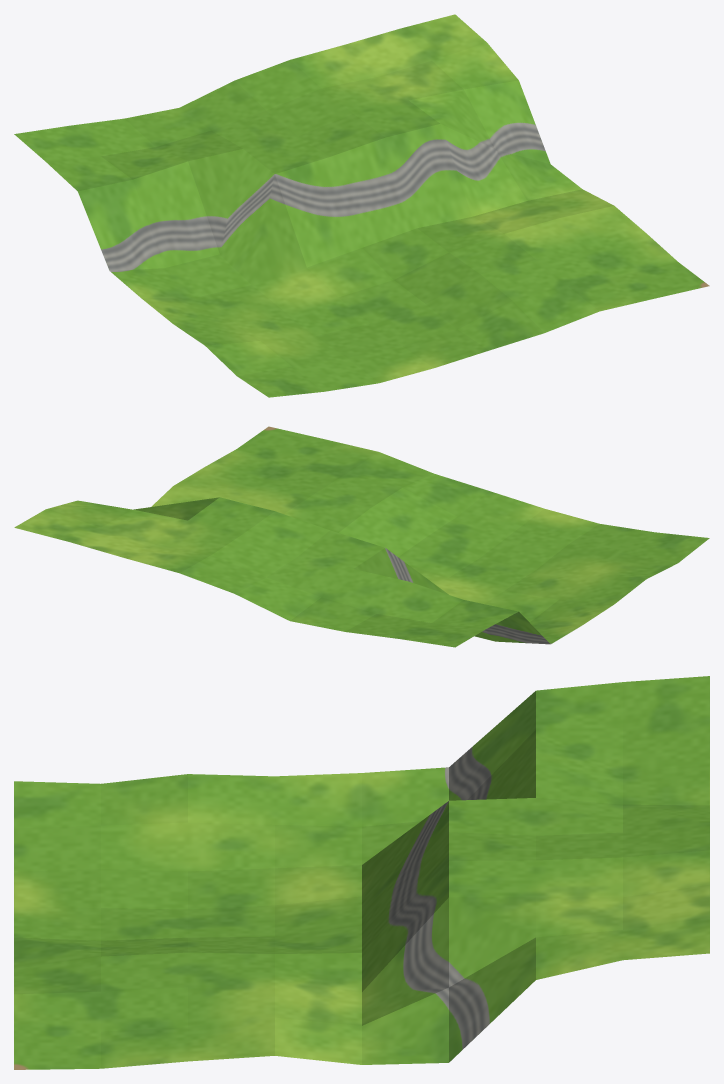
File: chunk_0_1_far.fbx
The picture shows the model from 3 angles, top to bottom: view 1: azimuth 30°, elevation 25°; view 2: azimuth 150°, elevation 25°; view 3: azimuth 270°, elevation 25°; orthographic projection. The views are drawn at different scales.
Parts seen in each view (by area): view 1: chunk_0_1_far; view 2: chunk_0_1_far; view 3: chunk_0_1_far.
Boxes of the visible parts, left/top/right/bottom form: chunk_0_1_far: left=14, top=14, right=709, bottom=397; chunk_0_1_far: left=14, top=426, right=709, bottom=647; chunk_0_1_far: left=14, top=676, right=709, bottom=1069.
Bounding box in the file's own units: 6400 × 6400 × 1418.
Materials: 1 (1 with a texture image).
